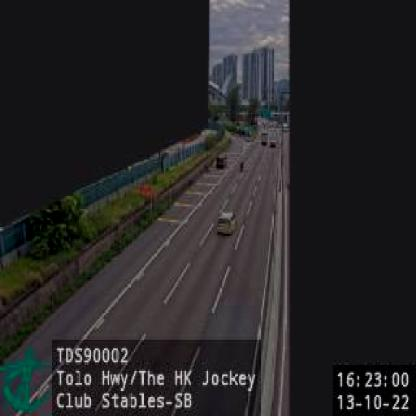Car: (218, 208, 237, 234), (214, 154, 226, 170)
